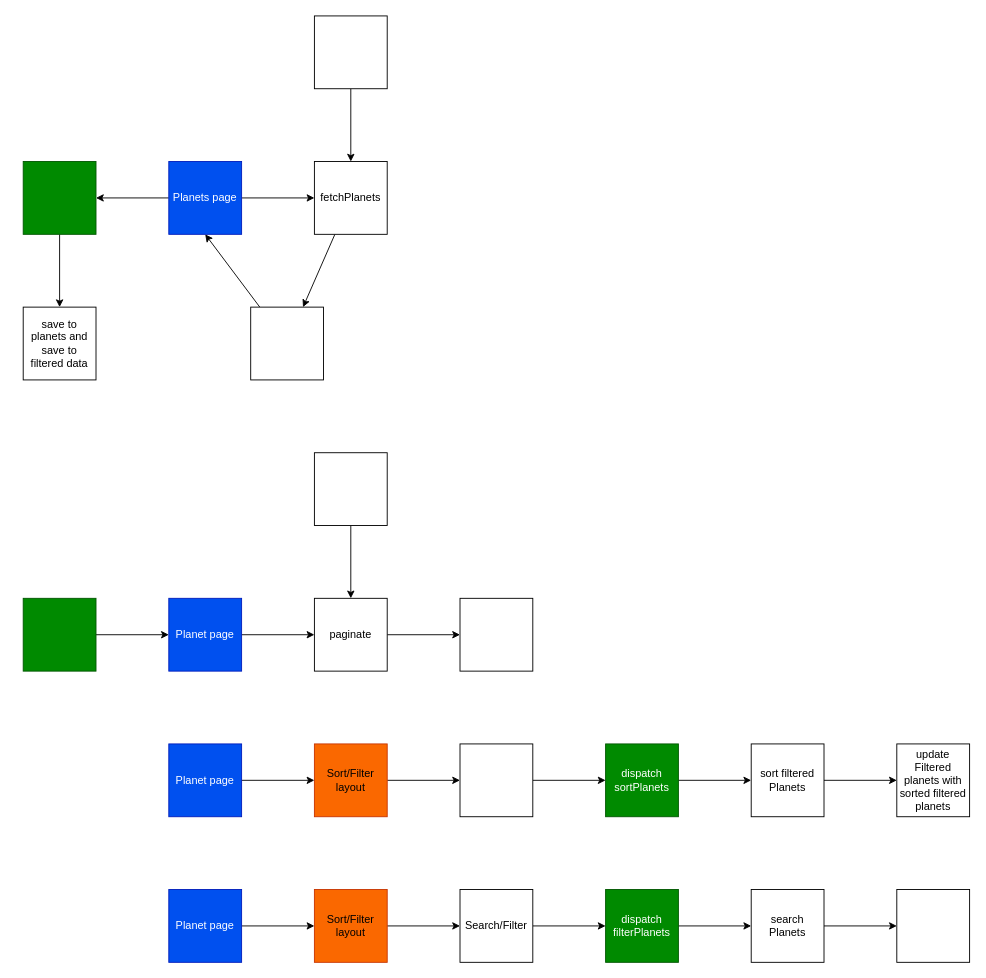
This 986x978 diagram has some shape labels left out. Each missing label, with the centre of its shape:
"dataStream from filtered data" belongs at (59,634).
"dispatchSaveData" belongs at (59,197).
"display" belongs at (496,634).
"emit pagination state" belongs at (350,489).
"process data" belongs at (287,343).
"raw-planets" belongs at (350,52).
"Sort" belongs at (496,780).
"update filtered planets with filtered planets" belongs at (933,925).
